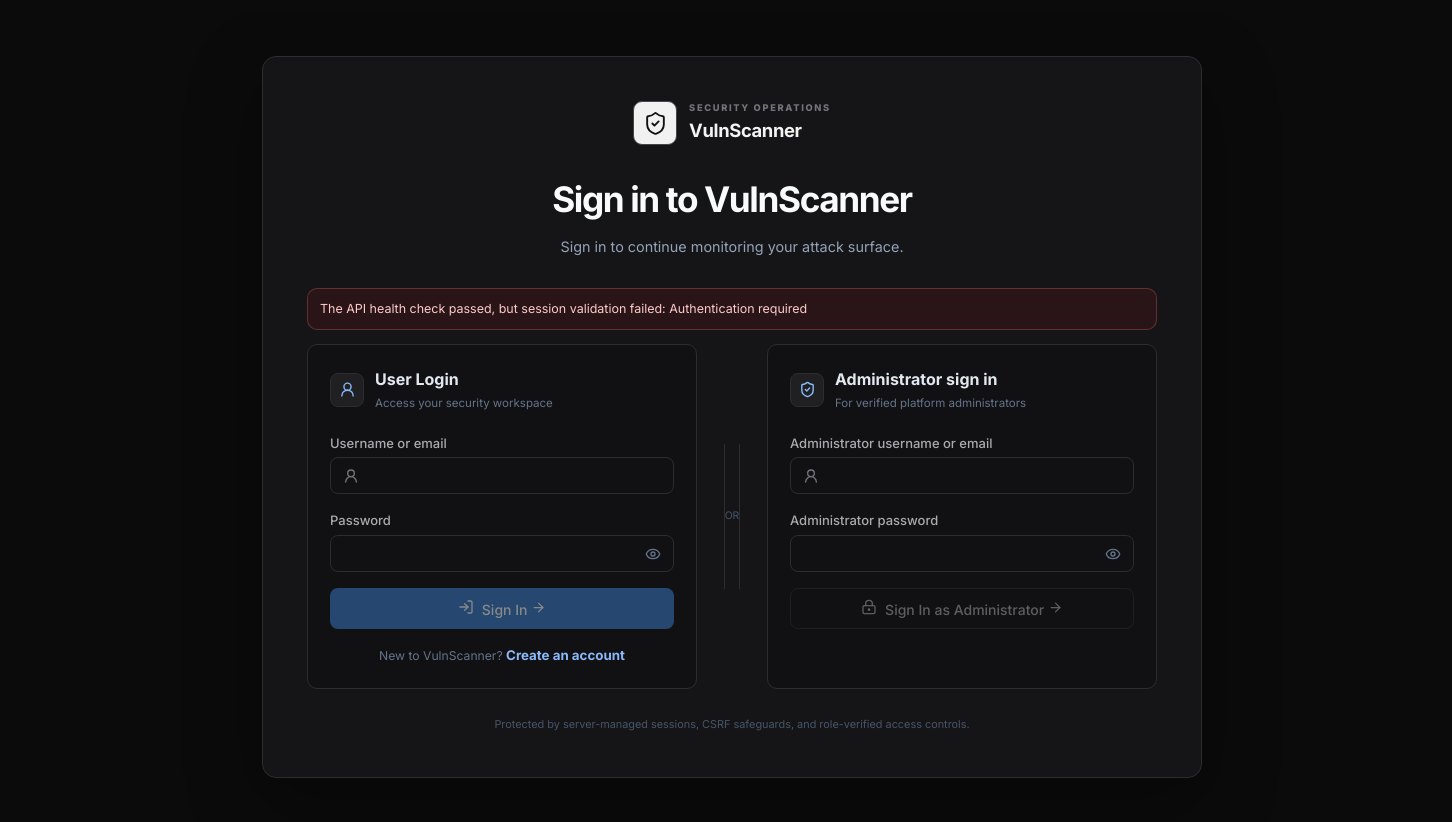
Test: persistent account authentication UI › logs in with persisted credentials and restores the original safe path
Type "alice@example.com" into the field labelled "Username or email" at (522, 476), box [371,458,673,493]
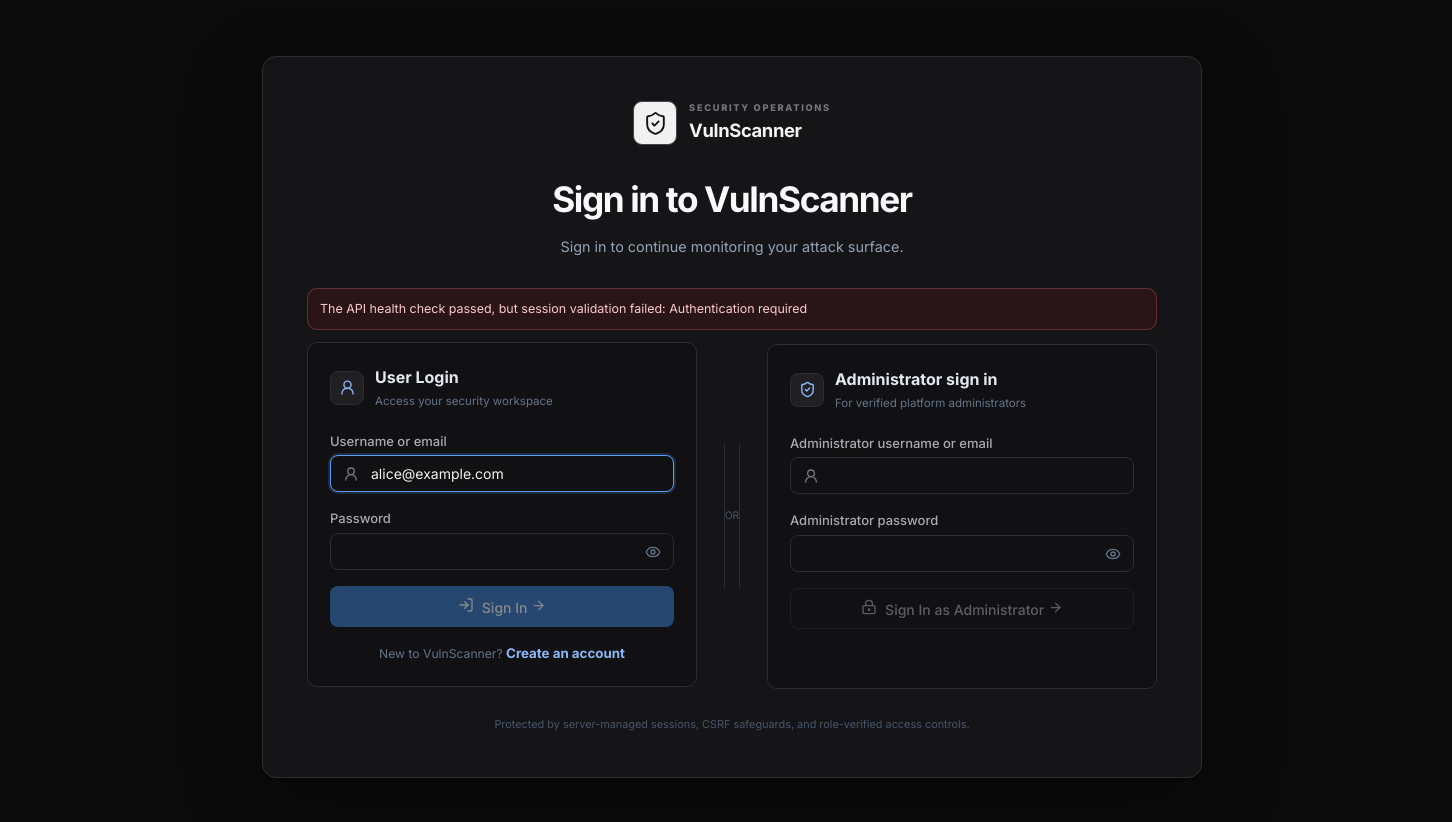
Type "StrongPassword!42" into the password field labelled "Password" at (482, 552), box [331,534,633,569]
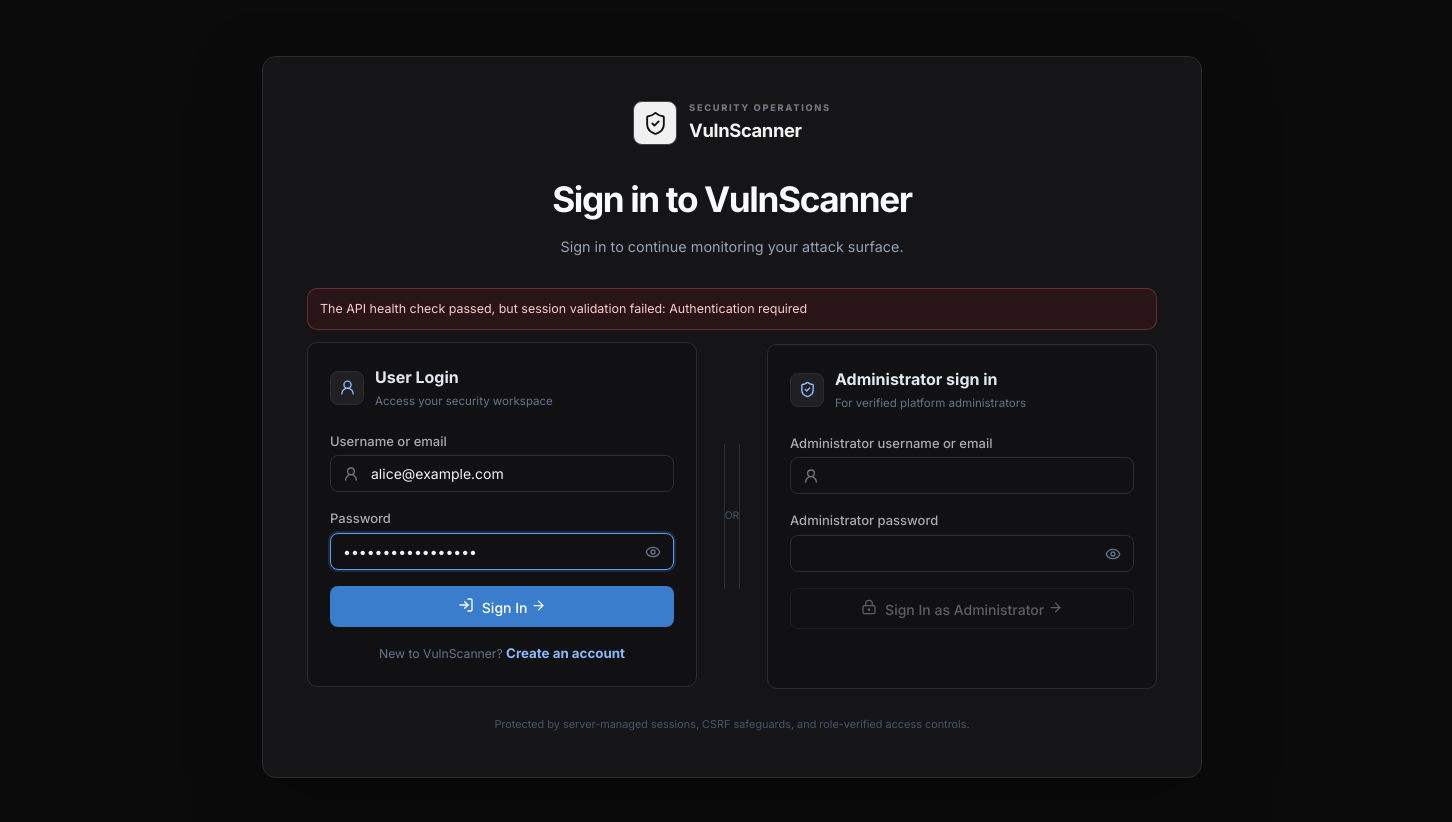
Click the button "Sign In" at (502, 607), box [330,586,674,627]
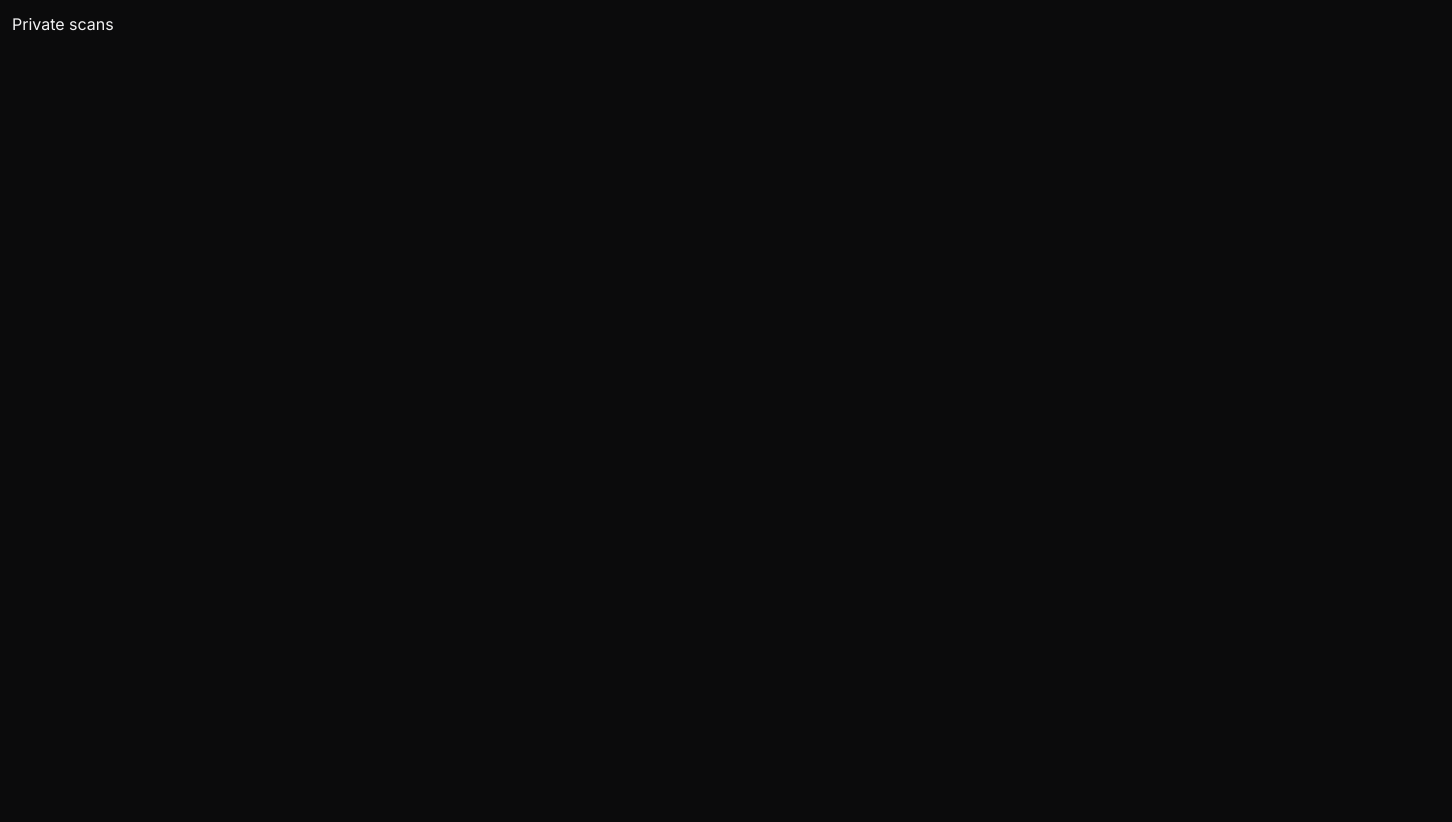
Expected: the text "Private scans" is shown, [12,14,114,34]
